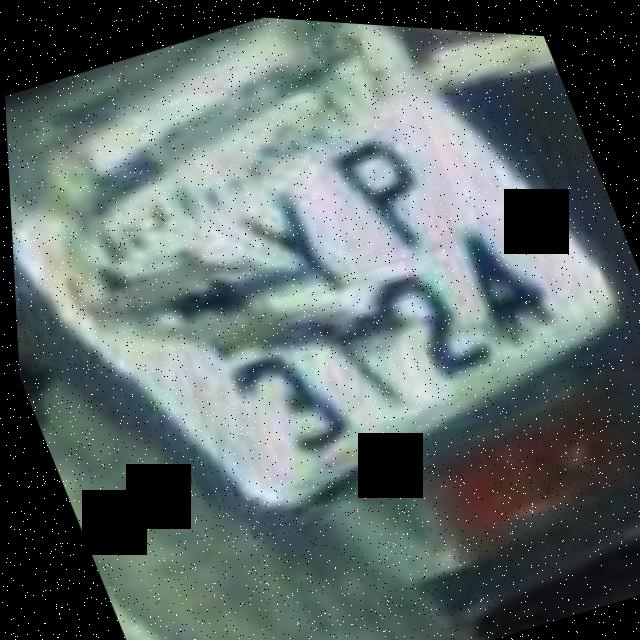3: (169, 287, 398, 504)
4: (420, 193, 578, 360)
5: (180, 289, 400, 503)
7: (265, 248, 458, 443)
P: (303, 97, 473, 275)
